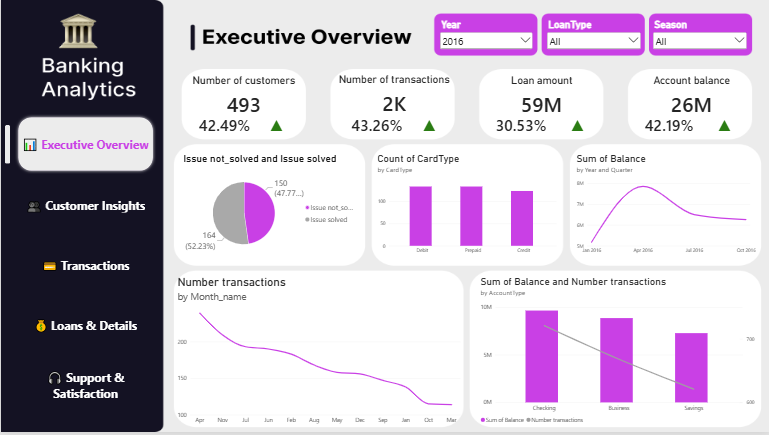

This screenshot's page, from the dashboard's own definition file:
{"tool":"powerbi","page":{"name":"Overview_page","canvas":[1920,1080],"ordinal":0},"visuals":[{"type":"shape","box":[34.3,285.7,352.9,150],"z":0},{"type":"shape","box":[34.3,437.1,352.9,150],"z":1000},{"type":"shape","box":[34.3,587.1,352.9,150],"z":2000},{"type":"shape","box":[34.3,737.1,352.9,150],"z":3000},{"type":"shape","box":[34.3,887.1,352.9,150],"z":4000},{"type":"shape","box":[10,312.9,12.9,97.1],"z":5000},{"type":"cardVisual","title":"Number of customers","fields":{"Data":["Overview_measure.Number customers"]},"box":[465,184.2,284.2,100.8],"z":6000},{"type":"cardVisual","title":"Number of transactions","fields":{"Data":["Overview_measure.Number transactions"]},"box":[836,182,296,102],"z":7000},{"type":"cardVisual","title":"Loan amount","fields":{"Data":["Overview_measure.Loan amount"]},"box":[1208.8,183.8,283.8,101.2],"z":8000},{"type":"cardVisual","title":"Account balance","fields":{"Data":["Overview_measure.Account balance"]},"box":[1585,183.8,283.8,101.2],"z":9000},{"type":"cardVisual","fields":{"Data":["Overview_measure.Show account balance"]},"box":[1585,285,171.2,53.8],"z":10000},{"type":"cardVisual","fields":{"Data":["Overview_measure.Show loan amount"]},"box":[1218.8,285,161.2,53.8],"z":11000},{"type":"cardVisual","fields":{"Data":["Overview_measure.Show transaction"]},"box":[854,286,170,54],"z":12000},{"type":"cardVisual","fields":{"Data":["Overview_measure.Show customer"]},"box":[476.7,285,163.3,54.2],"z":13000},{"type":"cardVisual","fields":{"Data":["Overview_measure.Arrow customer"]},"box":[645.8,285,88.3,54.2],"z":14000},{"type":"cardVisual","fields":{"Data":["customer calls measure.Arrow loan amount"]},"box":[1388.8,285,103.8,53.8],"z":15000},{"type":"cardVisual","fields":{"Data":["customer calls measure.Arrow account balance"]},"box":[1756.2,285,103.8,53.8],"z":16000},{"type":"cardVisual","fields":{"Data":["Overview_measure.Arrow customer"]},"box":[1023.8,285,92.5,53.8],"z":17000},{"type":"lineChart","fields":{"Category":["Calender.Month_name"],"Y":["Overview_measure.Number transactions"]},"box":[426,674,740,406],"z":18000},{"type":"lineClusteredColumnComboChart","fields":{"Category":["Accounts.AccountType"],"Y":["Sum(Accounts.Balance)"],"Y2":["Overview_measure.Number transactions"]},"box":[1182.5,675,720,405],"z":19000},{"type":"columnChart","fields":{"Category":["Cards.CardType"],"Y":["CountNonNull(Cards.CardType)"]},"box":[926,368,480,288],"z":20000},{"type":"pieChart","fields":{"Y":["customer calls measure.Issue not_solved","customer calls measure.Issue solved"]},"box":[440,368,466,288],"z":21000},{"type":"lineChart","fields":{"Category":["Calender.Date.Variation.Date Hierarchy.Year","Calender.Date.Variation.Date Hierarchy.Quarter","Calender.Date.Variation.Date Hierarchy.Month","Calender.Date.Variation.Date Hierarchy.Day"],"Y":["Sum(Accounts.Balance)"]},"box":[1422,368,480,288],"z":22000},{"type":"slicer","fields":{"Values":["Calender.Year"]},"box":[1092.5,45,241.2,90],"z":23000},{"type":"slicer","fields":{"Values":["Loans.LoanType"]},"box":[1360,45,243.8,90],"z":24000},{"type":"slicer","fields":{"Values":["Transactions.Season"]},"box":[1625,45,243.8,90],"z":25000}]}

Visuals, with their boxes on the page's 1920x1080 design canvas (x1, y1, x2, y2). These are canvas units, not pixel positions in the 769x435 screenshot, which may show the page scaled, cropped or inside an application window:
shape: [34, 286, 387, 436]
shape: [34, 437, 387, 587]
shape: [34, 587, 387, 737]
shape: [34, 737, 387, 887]
shape: [34, 887, 387, 1037]
shape: [10, 313, 23, 410]
"Number of customers" cardVisual: [465, 184, 749, 285]
"Number of transactions" cardVisual: [836, 182, 1132, 284]
"Loan amount" cardVisual: [1209, 184, 1493, 285]
"Account balance" cardVisual: [1585, 184, 1869, 285]
cardVisual - Overview_measure.Show account balance: [1585, 285, 1756, 339]
cardVisual - Overview_measure.Show loan amount: [1219, 285, 1380, 339]
cardVisual - Overview_measure.Show transaction: [854, 286, 1024, 340]
cardVisual - Overview_measure.Show customer: [477, 285, 640, 339]
cardVisual - Overview_measure.Arrow customer: [646, 285, 734, 339]
cardVisual - customer calls measure.Arrow loan amount: [1389, 285, 1493, 339]
cardVisual - customer calls measure.Arrow account balance: [1756, 285, 1860, 339]
cardVisual - Overview_measure.Arrow customer: [1024, 285, 1116, 339]
lineChart - Calender.Month_name x Overview_measure.Number transactions: [426, 674, 1166, 1080]
lineClusteredColumnComboChart - Accounts.AccountType x Sum(Accounts.Balance): [1182, 675, 1902, 1080]
columnChart - Cards.CardType x CountNonNull(Cards.CardType): [926, 368, 1406, 656]
pieChart - customer calls measure.Issue not_solved x customer calls measure.Issue solved: [440, 368, 906, 656]
lineChart - Calender.Date.Variation.Date Hierarchy.Year x Calender.Date.Variation.Date Hierarchy.Quarter: [1422, 368, 1902, 656]
slicer - Calender.Year: [1092, 45, 1334, 135]
slicer - Loans.LoanType: [1360, 45, 1604, 135]
slicer - Transactions.Season: [1625, 45, 1869, 135]
